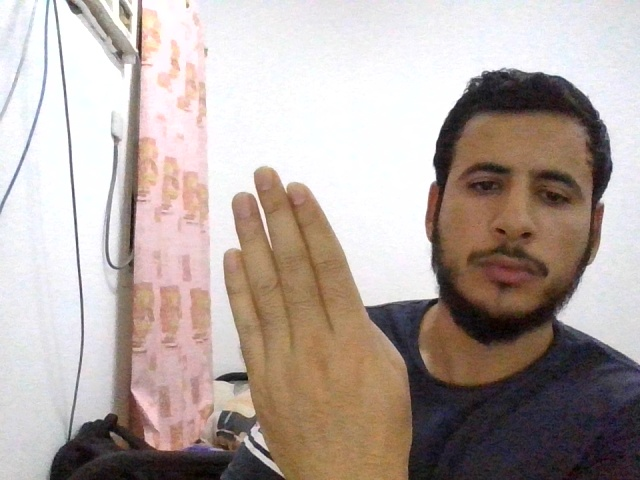Four: (223, 167, 414, 474)
